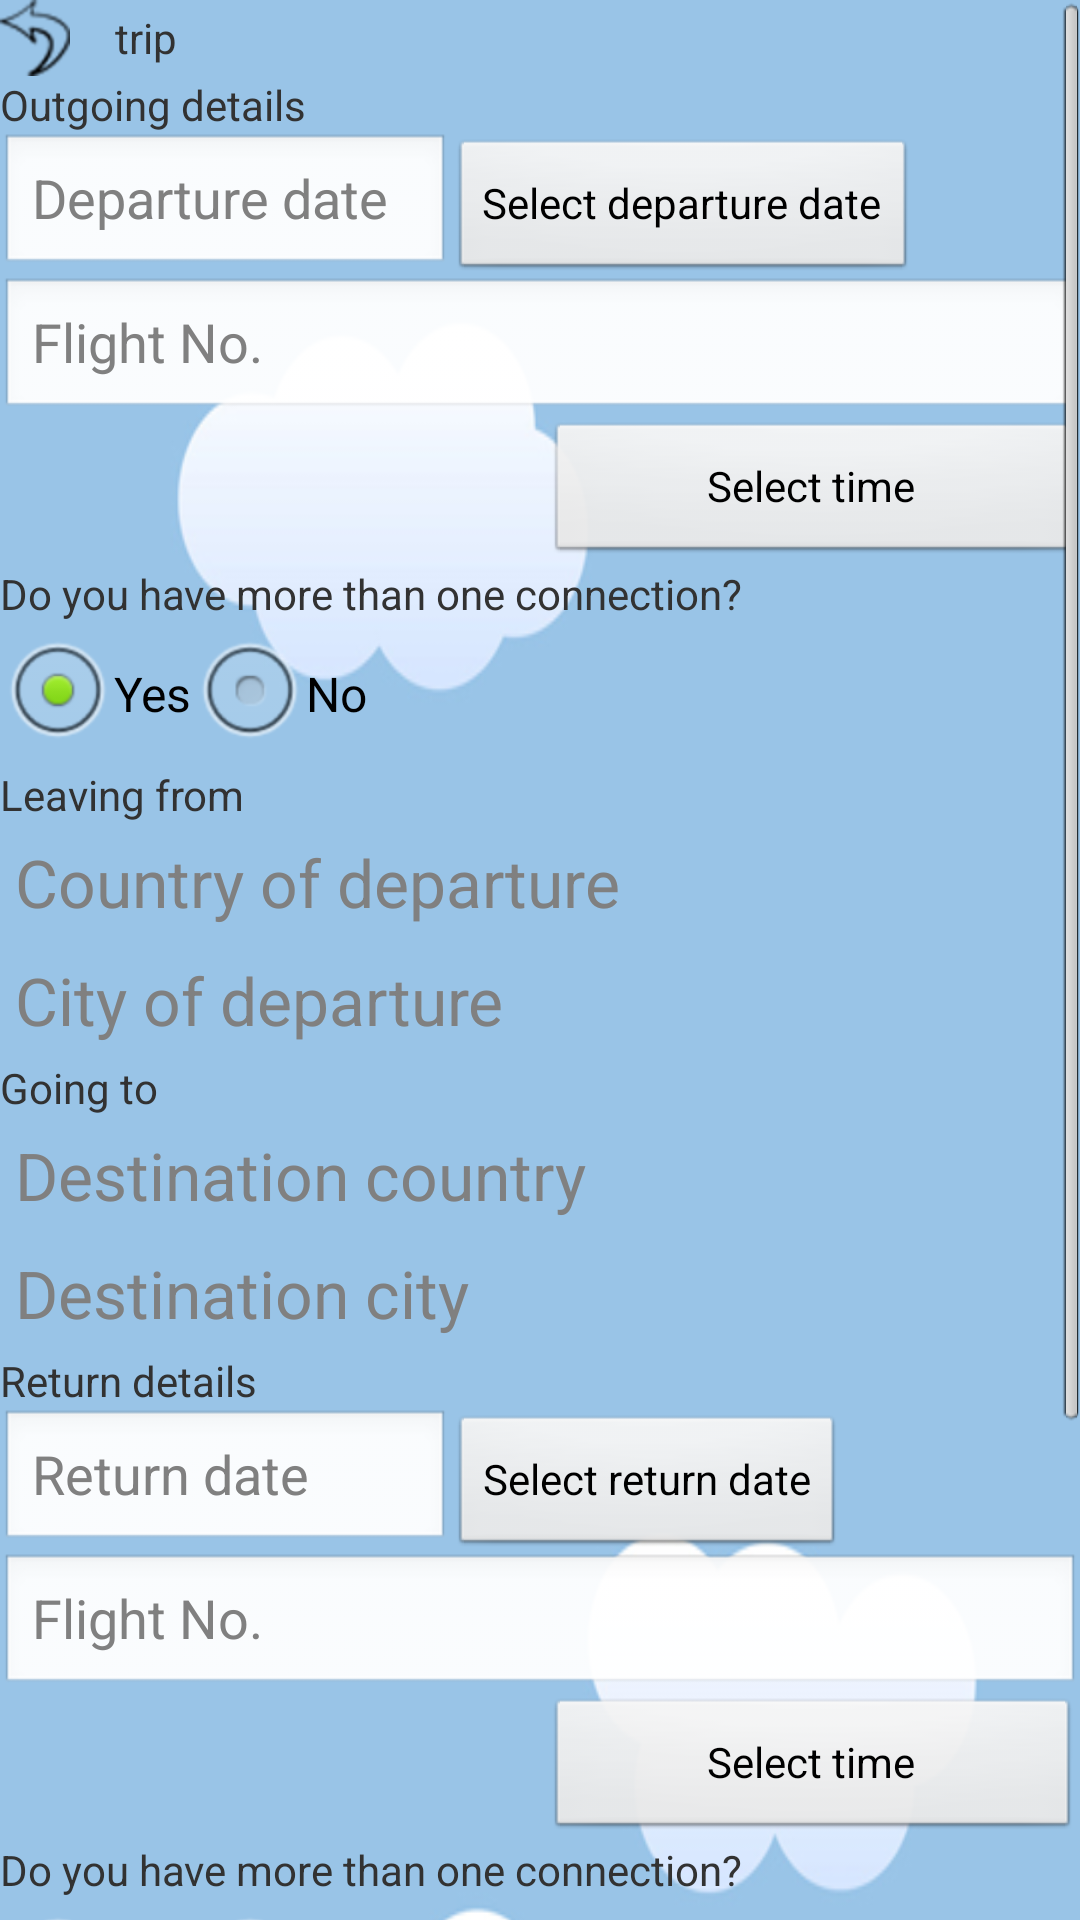

Icon bounding boxes for this 1080 x 1920 phone screenshot, format (left=x1, top=y1, right=x2, bottom=y2):
back: (left=0, top=0, right=70, bottom=76)
